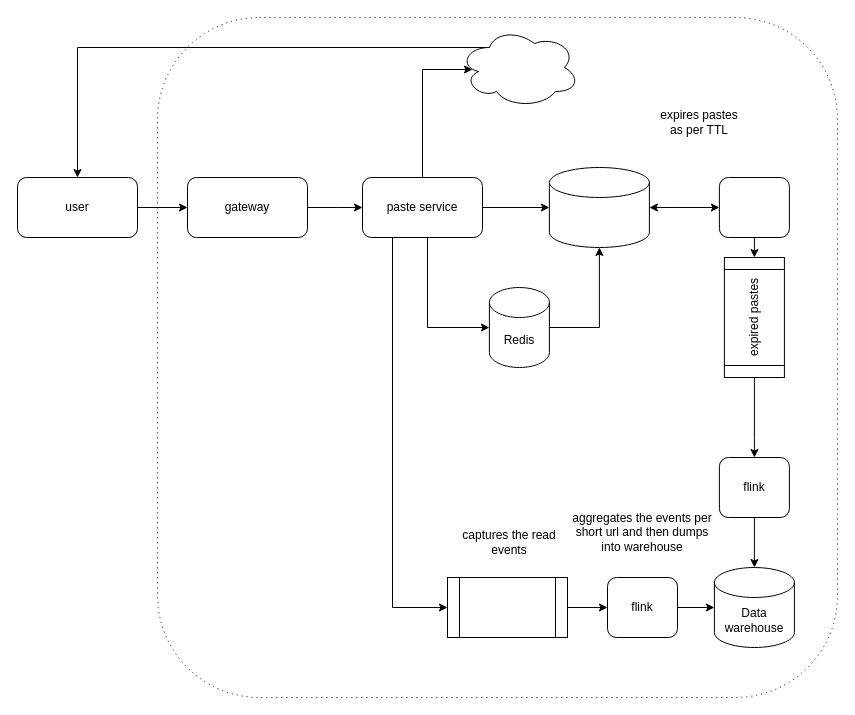
The diagram is 855 pixels wide and 715 high, and some of its shapes have lost their labels. Here are the shapes that lost their labels. From the top down, the box of each, then its label:
(458, 26, 579, 108): blob storage
(548, 166, 649, 248): Postgres
(718, 176, 789, 238): archiver
(446, 576, 568, 638): read event kafka
